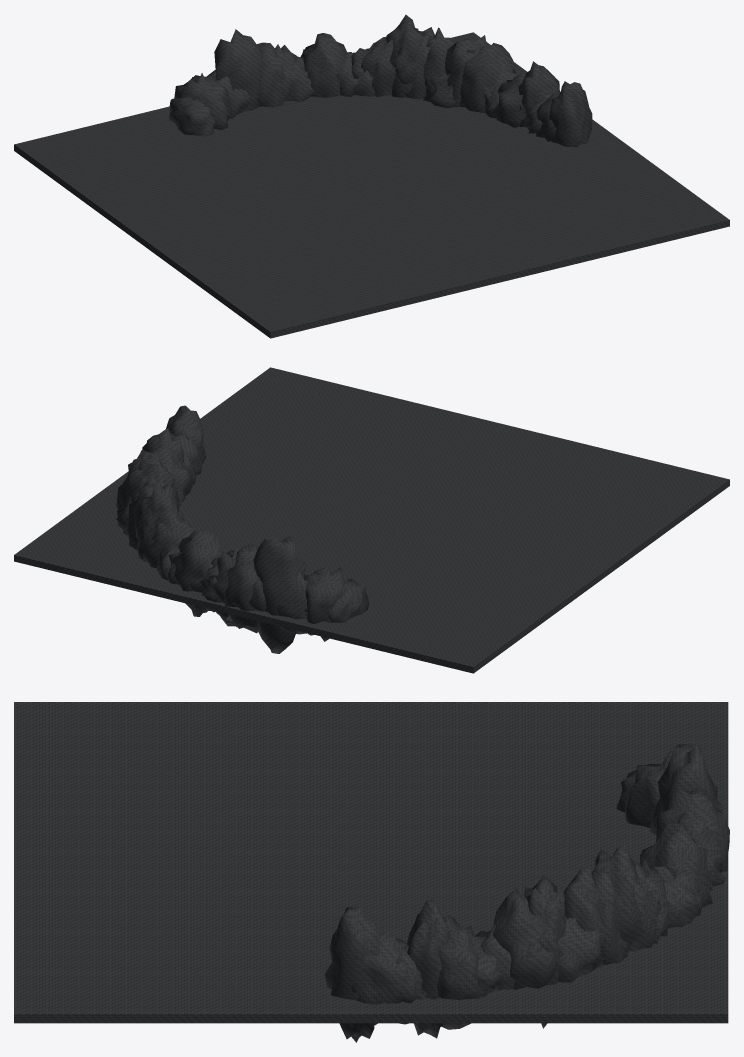
The model's file is Landscape_Basalt_1.fbx.
The picture shows the model from 3 angles, top to bottom: view 1: azimuth 30°, elevation 25°; view 2: azimuth 150°, elevation 25°; view 3: azimuth 270°, elevation 25°; orthographic projection. The views are drawn at different scales.
Parts seen in each view (by area): view 1: Landscape_Basalt_1; view 2: Landscape_Basalt_1; view 3: Landscape_Basalt_1.
Part boxes in pixels (box(x1,y1,x2,y2)): Landscape_Basalt_1: box(14, 14, 729, 338); Landscape_Basalt_1: box(14, 367, 729, 673); Landscape_Basalt_1: box(14, 702, 729, 1042).
Size of the model in its own units: 150000 by 37598 by 145306.
1 material, 1 textured.
